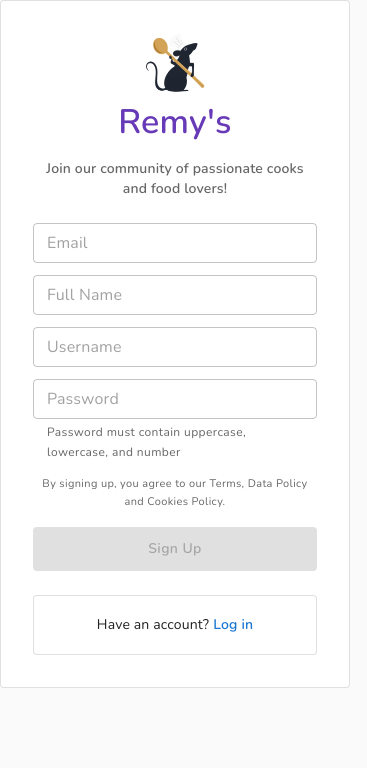
Test: RegisterForm non-Error exception handling - line 40 › should display fallback error when register throws non-Error
This screenshot has width=367, height=768.
Type "test@example.com" into the field with placeholder "Email" at (175, 243), box [33,223,317,263]
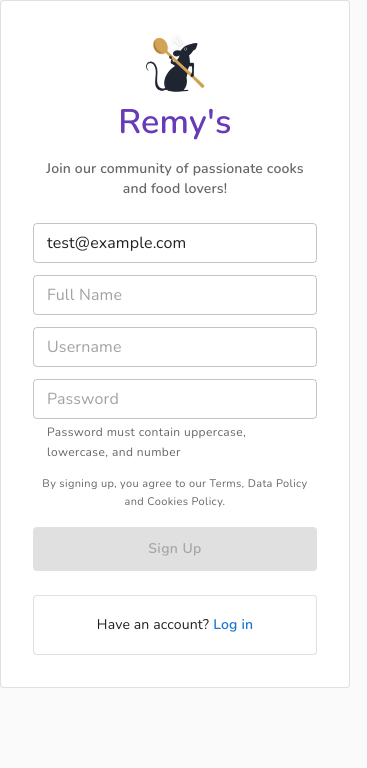
Type "testuser" into the field with placeholder "Username" at (175, 347), box [33,327,317,367]
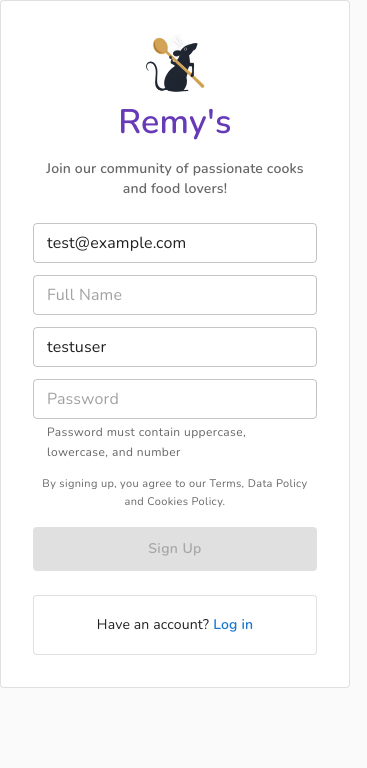
Type "Password123" into the password field with placeholder "Password" at (175, 399), box [33,379,317,419]
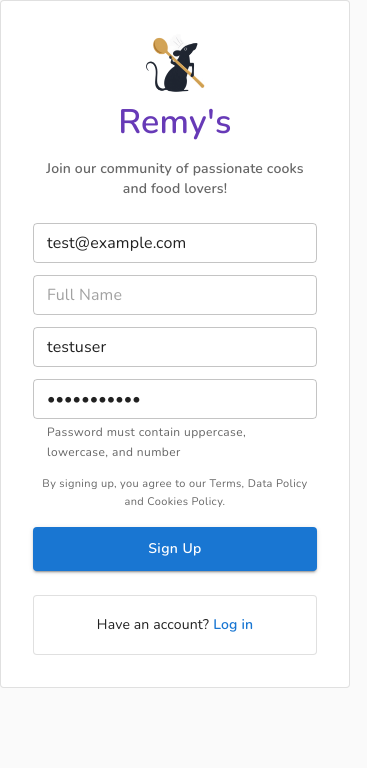
Click the button "Sign Up" at (175, 549), box [33,527,317,571]
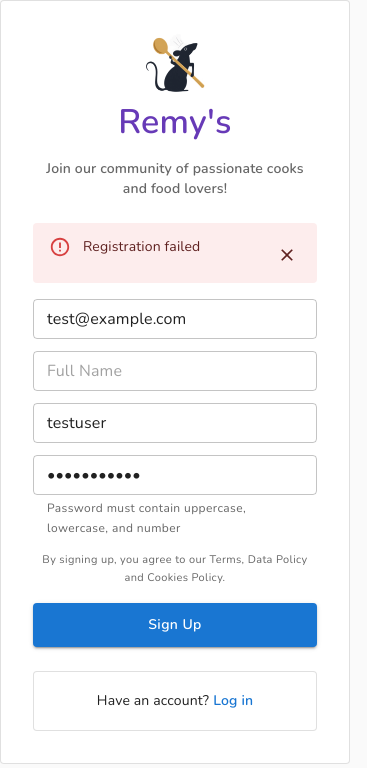
Check: the text "Registration failed" is shown, box [83,237,200,256]
